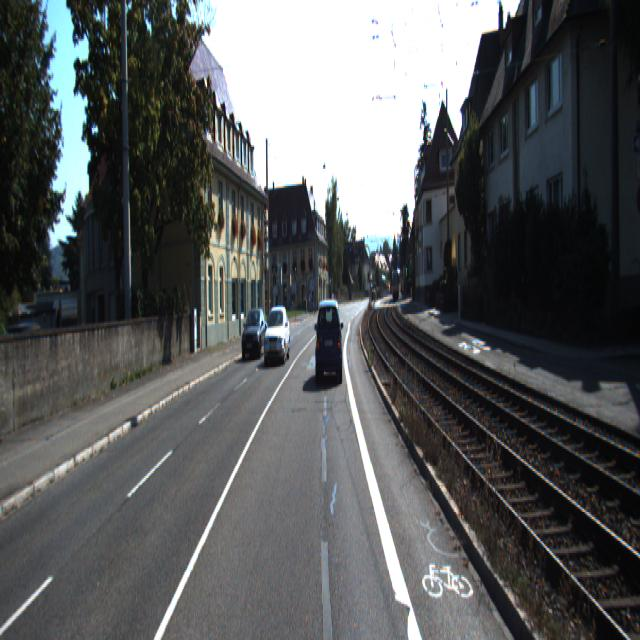Car: (314, 298, 342, 387), (264, 306, 290, 366), (241, 308, 267, 360)
